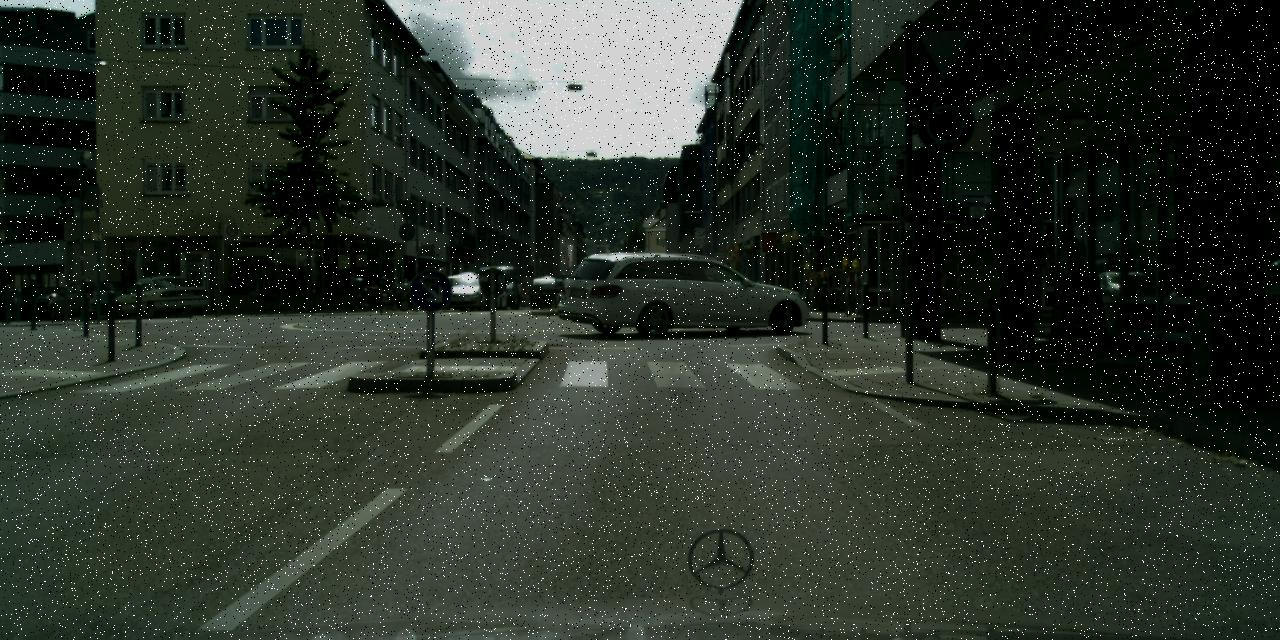ped: (1005, 221, 1051, 335), (361, 264, 379, 308), (344, 267, 361, 311)
